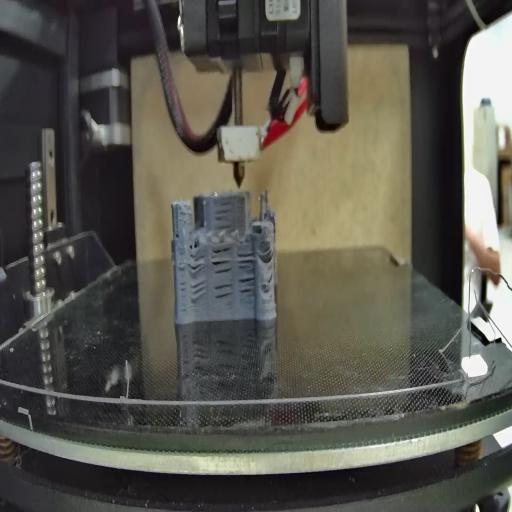cracks: (213, 197, 235, 231), (212, 243, 234, 274), (238, 273, 255, 305), (178, 258, 187, 314), (213, 280, 233, 304), (235, 250, 256, 269), (188, 254, 206, 274), (191, 280, 207, 302), (263, 246, 274, 260), (175, 227, 180, 242), (268, 275, 274, 287)
